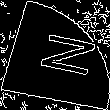N_W: (20, 29, 90, 81)
